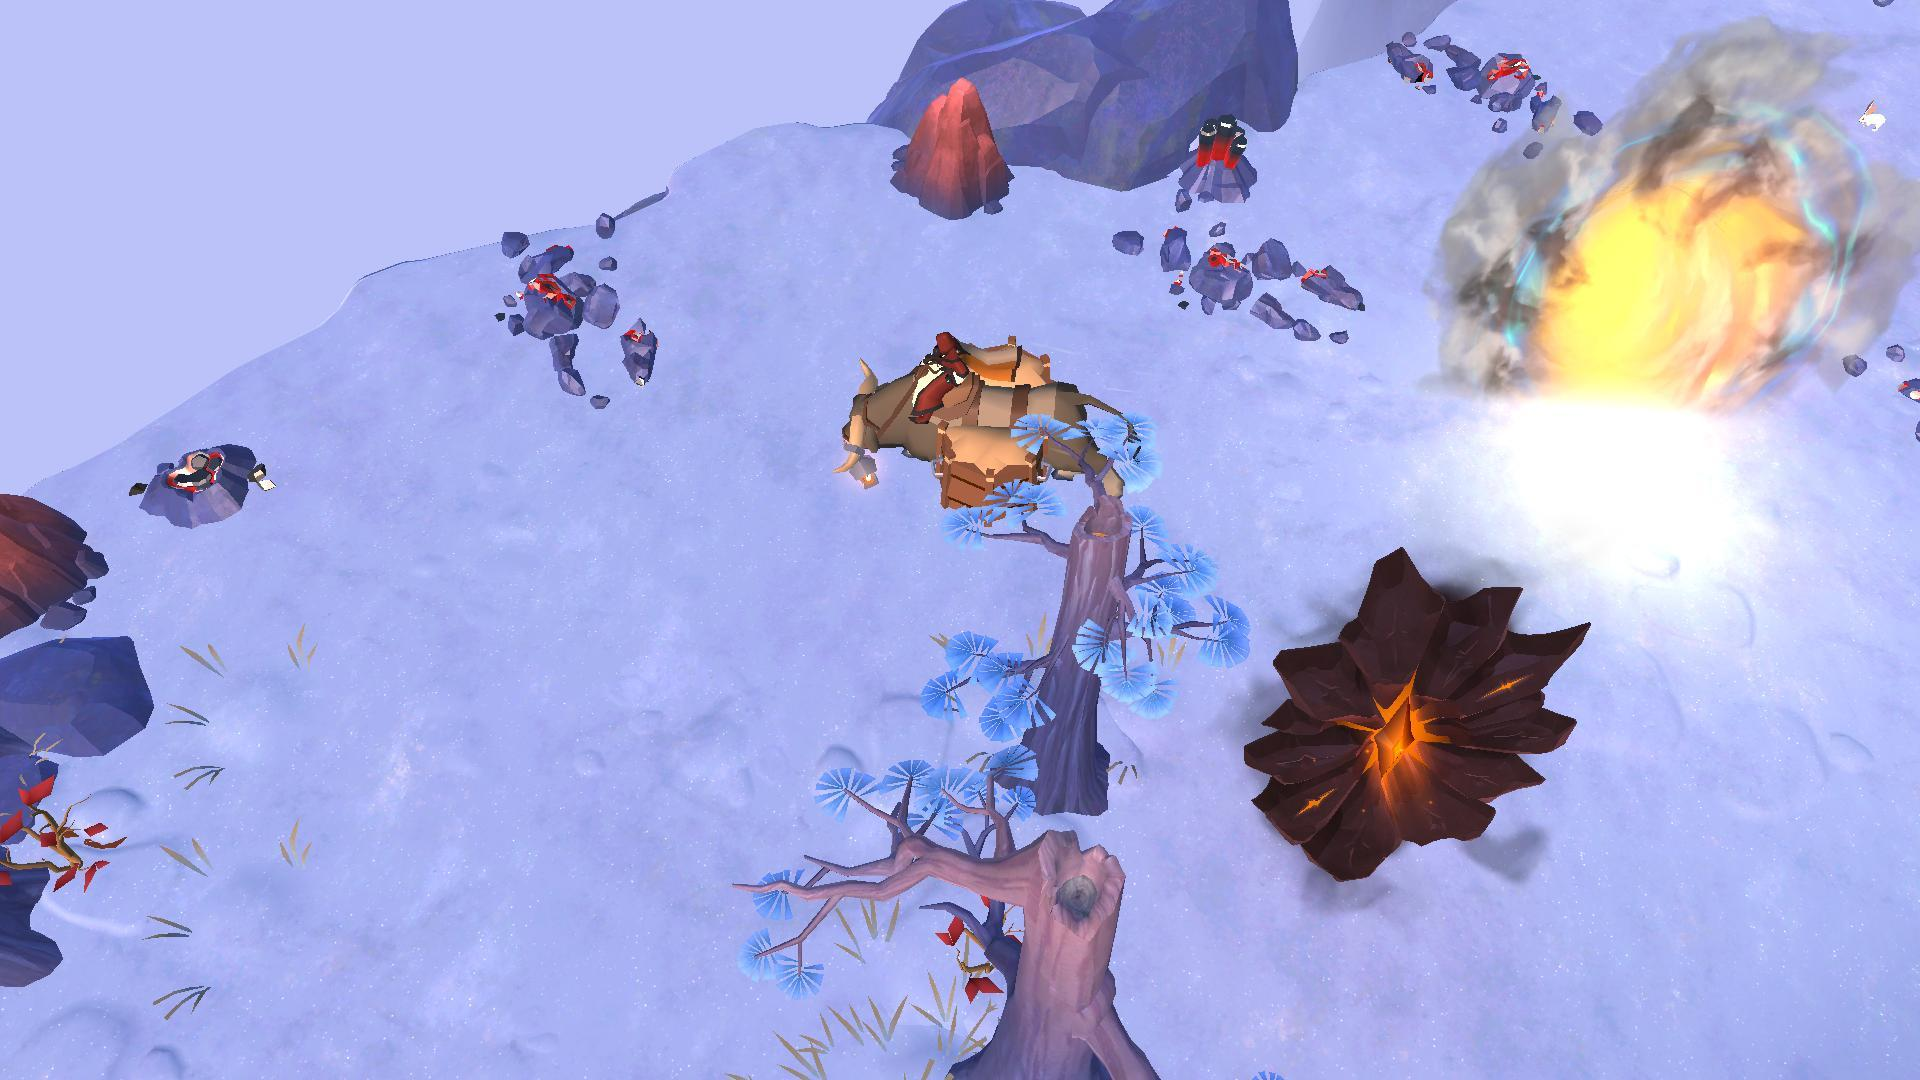ore_t5: (1188, 108, 1255, 173)
rock_t5: (887, 71, 1015, 223), (0, 462, 98, 632)
